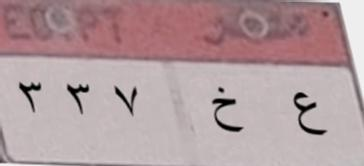3: (61, 75, 98, 123), (17, 74, 45, 121)
7: (107, 84, 146, 123)
ain: (293, 89, 329, 145)
khaa: (209, 84, 246, 139)
